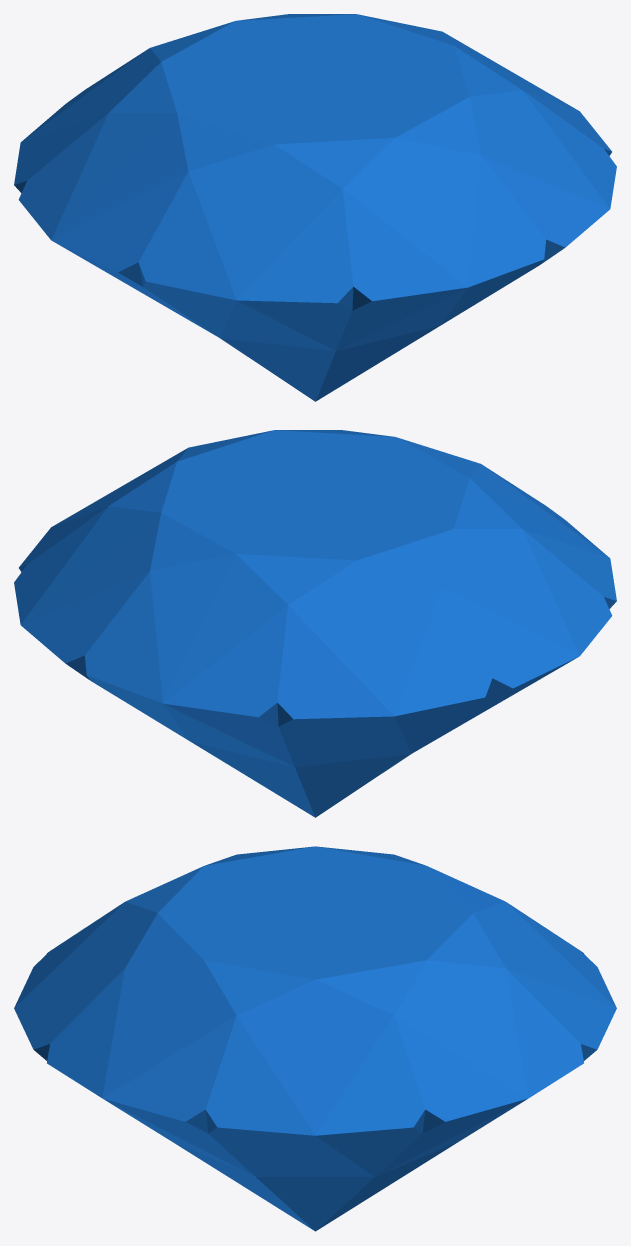
The model's file is diamante.obj.
3 renders of one model, top to bottom at view 1: azimuth 30°, elevation 25°; view 2: azimuth 150°, elevation 25°; view 3: azimuth 270°, elevation 25°, orthographic.
Visible parts, largest first — view 1: diamond; view 2: diamond; view 3: diamond.
Boxes of the visible parts, x1=… form: diamond: x1=14, y1=14, x2=616, y2=401; diamond: x1=14, y1=430, x2=616, y2=817; diamond: x1=14, y1=846, x2=616, y2=1231.
Bounding box in the file's own units: 1.46 × 0.8522 × 1.46.
Materials: 1 (1 with a texture image).
